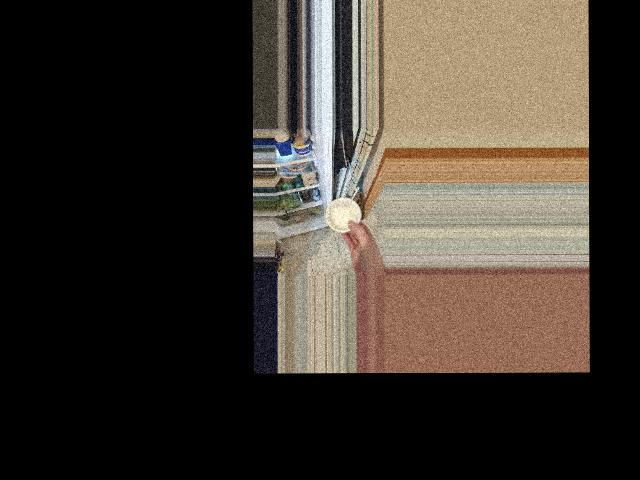cotage: (330, 199, 363, 234)
